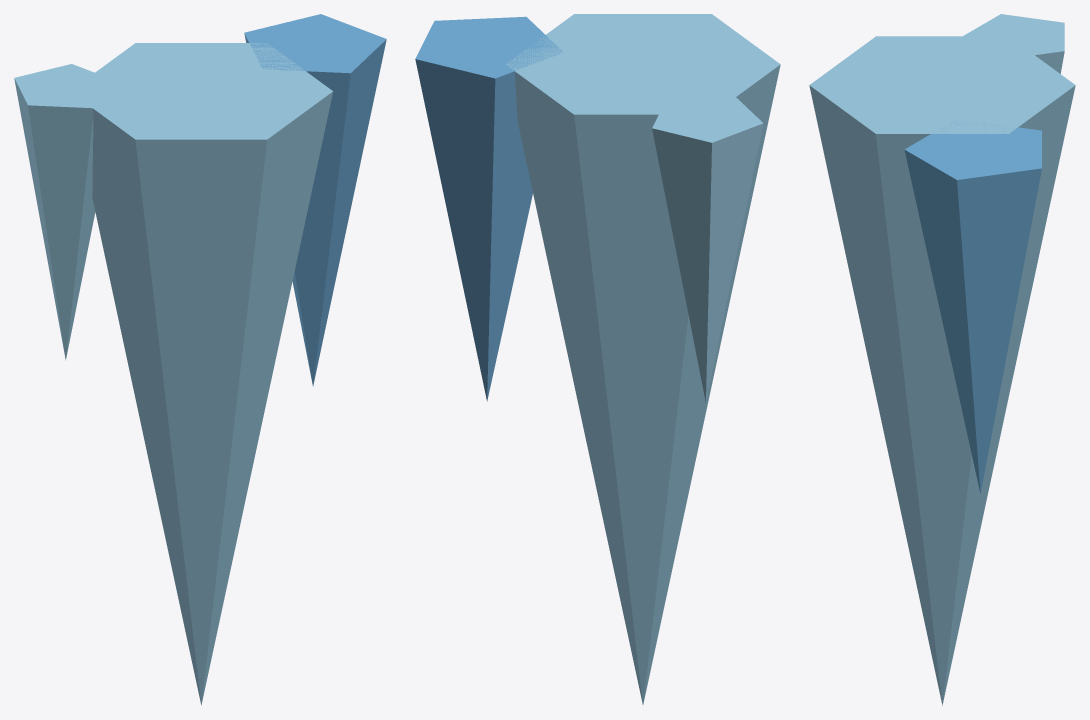
The model's file is stalactite_cluster.glb.
3 views of the same model, side by side, from view 1: azimuth 30°, elevation 25°; view 2: azimuth 150°, elevation 25°; view 3: azimuth 270°, elevation 25° (orthographic). The views are drawn at different scales.
Parts seen in each view (by area): view 1: stalactite_cluster; view 2: stalactite_cluster; view 3: stalactite_cluster.
Boxes of the visible parts, left/top/right/bottom form: stalactite_cluster: left=14, top=14, right=386, bottom=705; stalactite_cluster: left=415, top=14, right=780, bottom=704; stalactite_cluster: left=809, top=14, right=1075, bottom=705.
Size of the model in its own units: 1.03 by 1.8 by 0.7.
